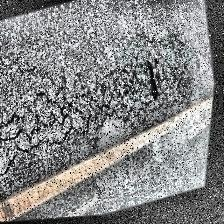pothole: (141, 60, 167, 106)
